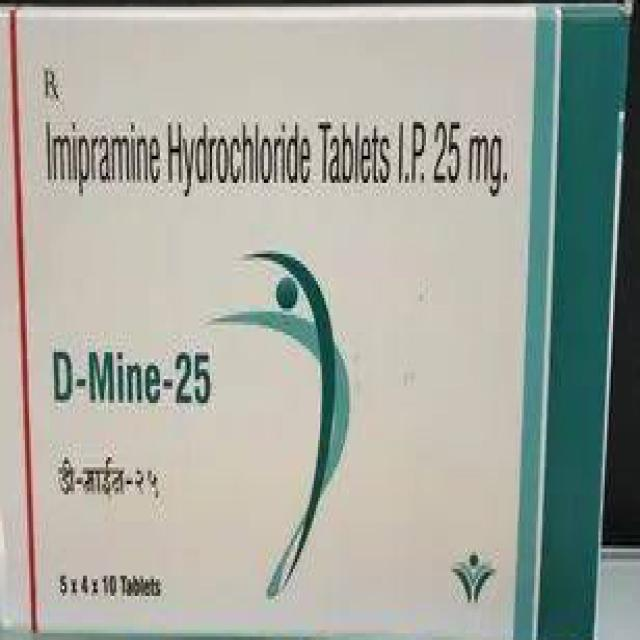drug-name: (48, 344, 324, 428)
